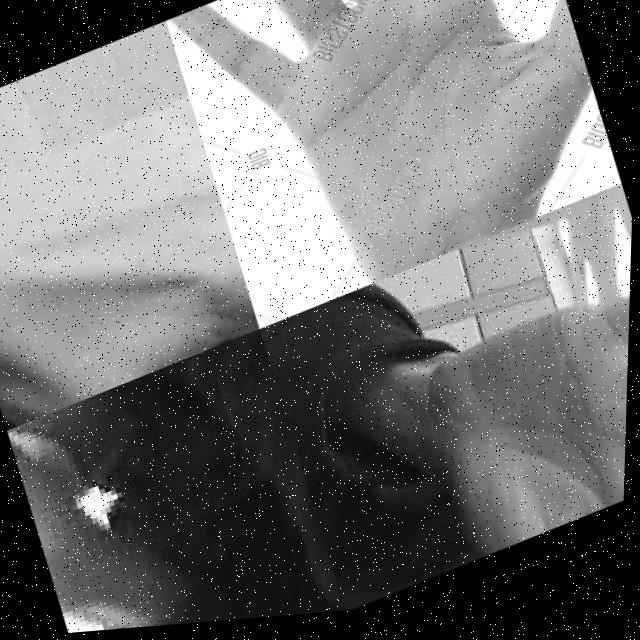hand: (159, 0, 628, 339), (0, 78, 268, 431), (410, 283, 632, 574)
